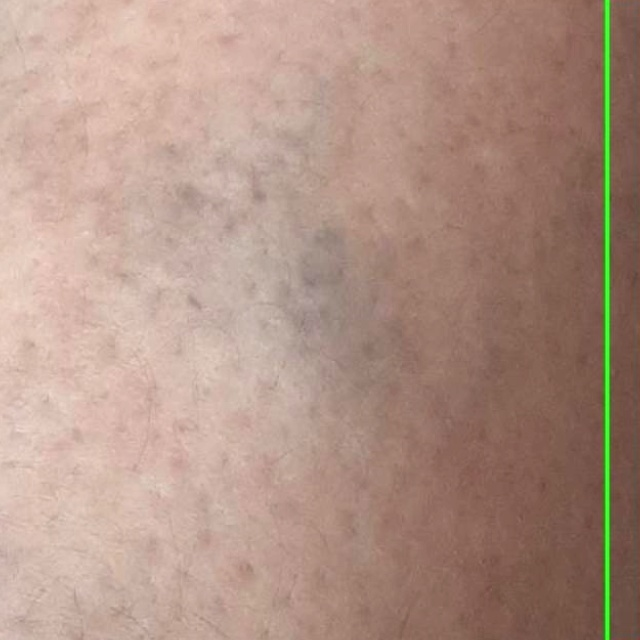Eczema: (607, 0, 639, 639)
